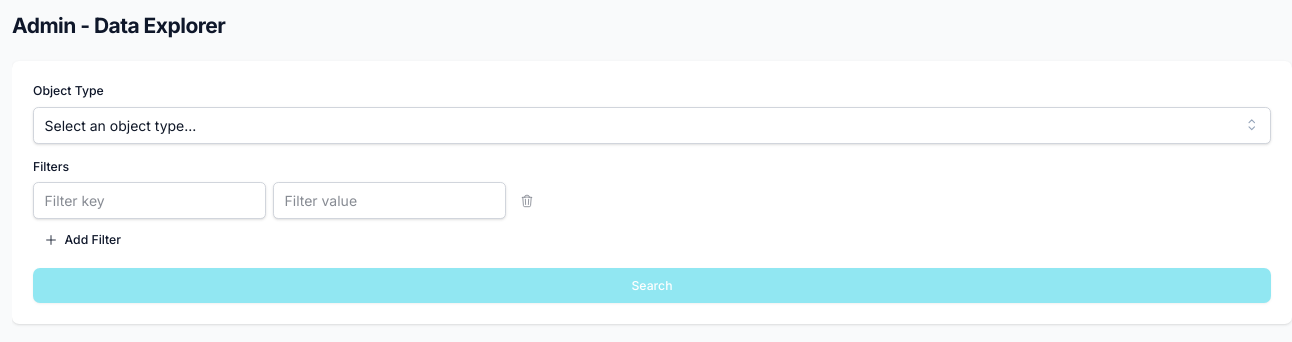
Test: AdminDataExplorerPage › enables search button when object type is selected
Select "Users" in the dropdown at (652, 125), box x1=33 y1=106 x2=1271 y2=144
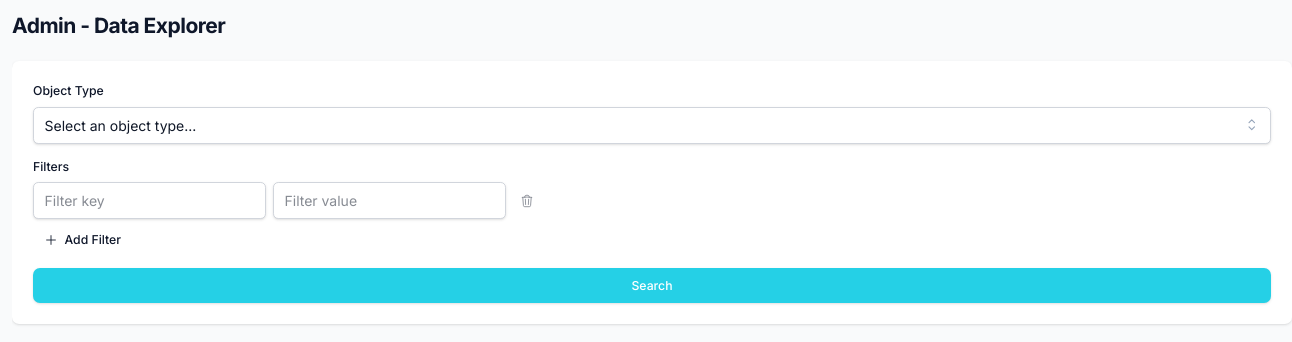
Expected: the button "Search" is enabled, x1=33 y1=268 x2=1271 y2=303
